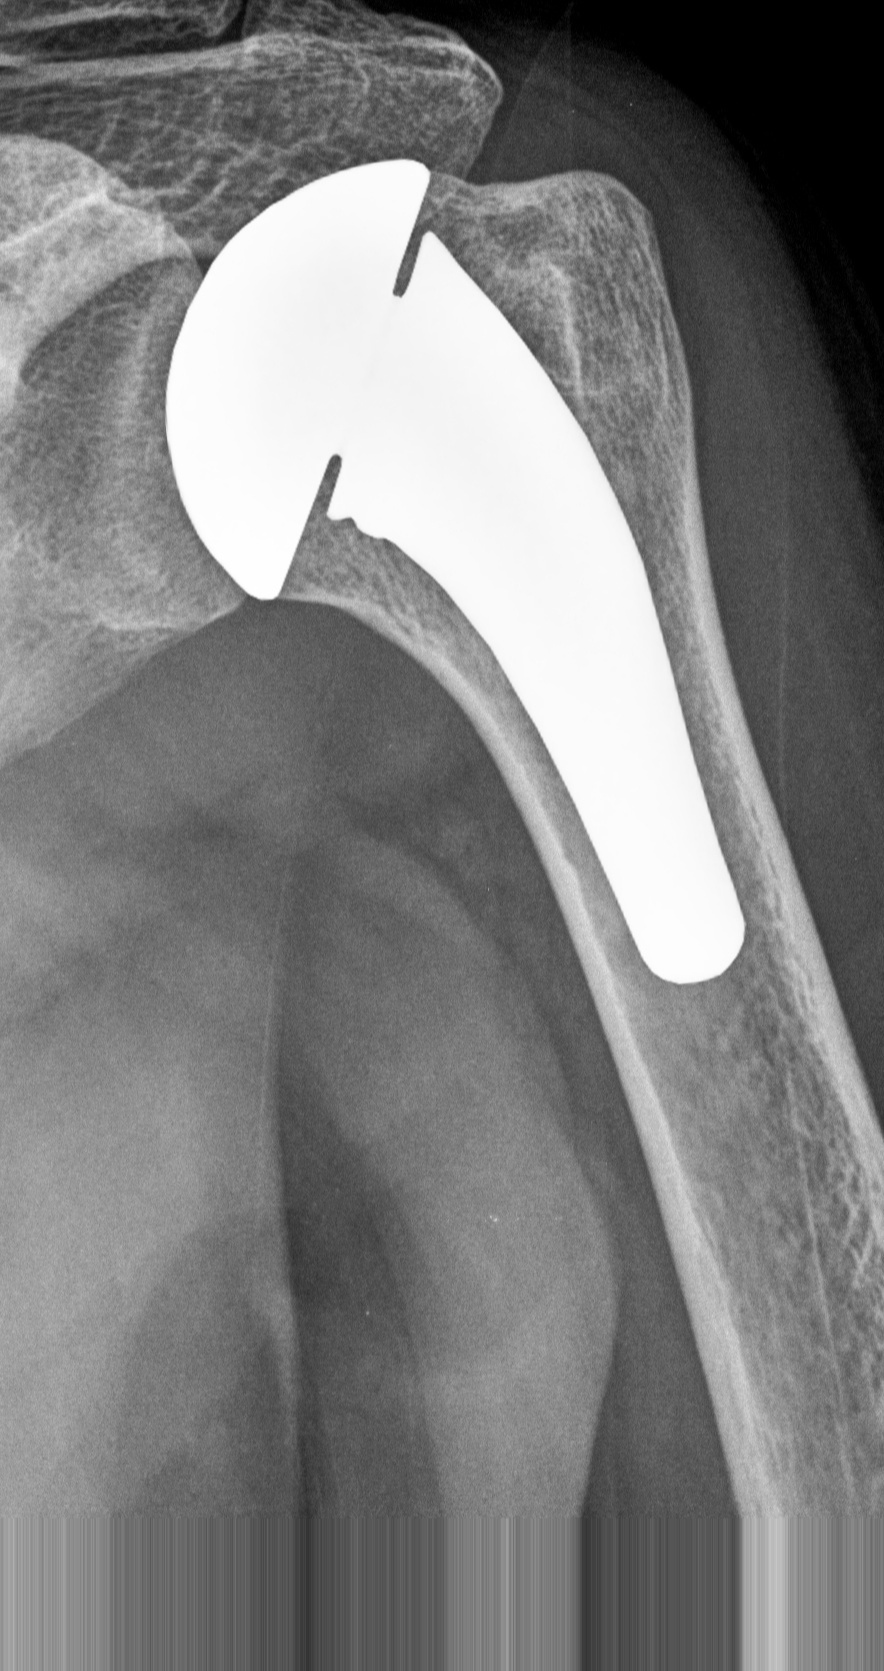Shoulder - AequalisAscendFlex - Tornier: (162, 116, 450, 620)
